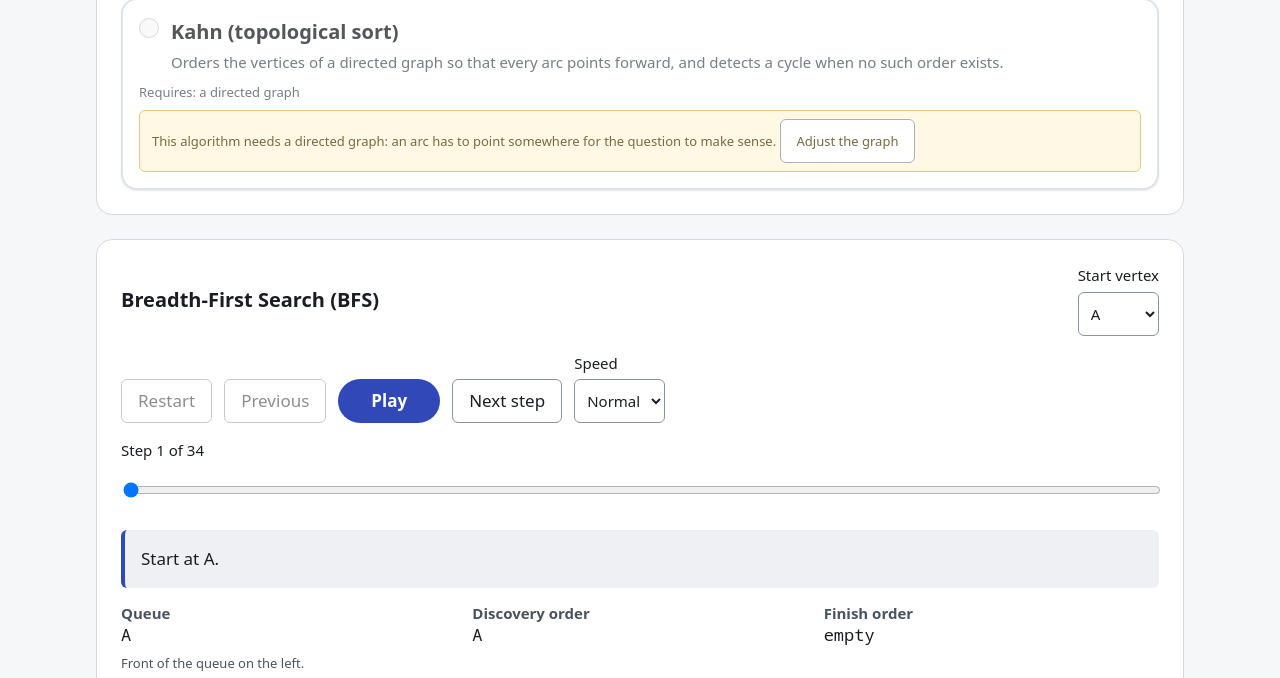
Test: App shell › switches language without resetting the run
The image size is (1280, 678).
(page scrolled)
Click the button "Next step": (507, 401) [452,379,562,423]
(page scrolled)
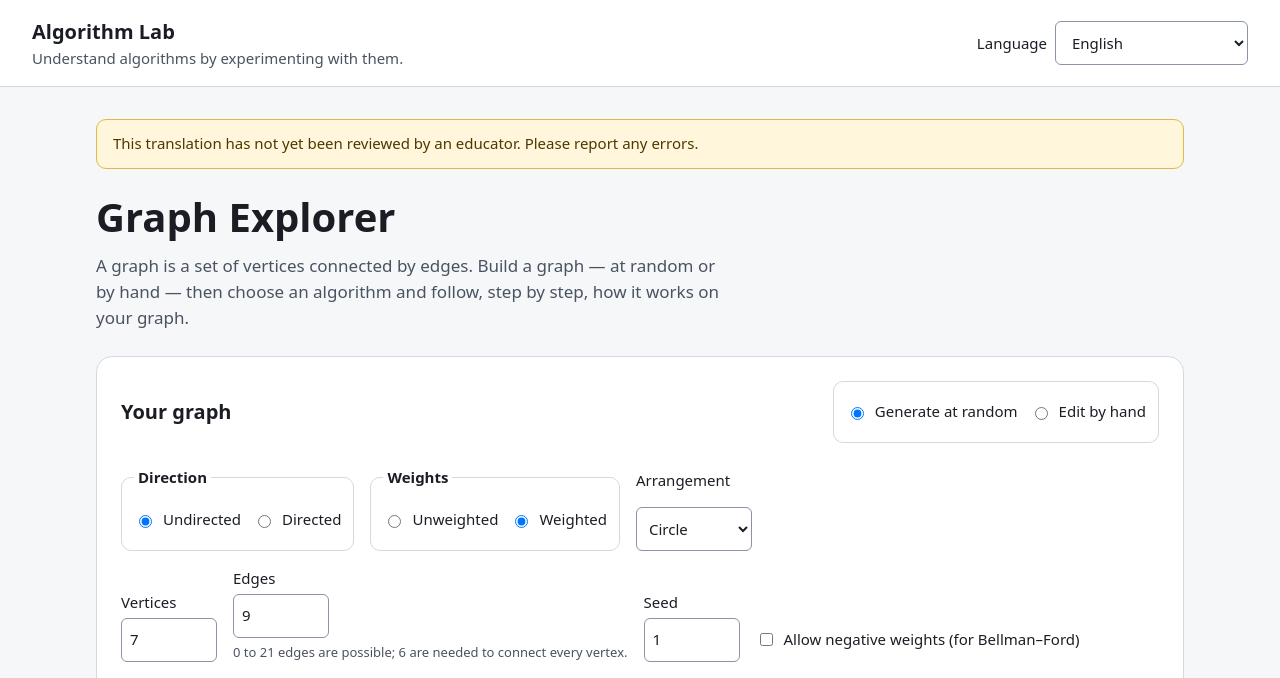
Select "Deutsch" in the dropdown labelled "Language": (1152, 43) [1055,21,1248,65]
(page scrolled)
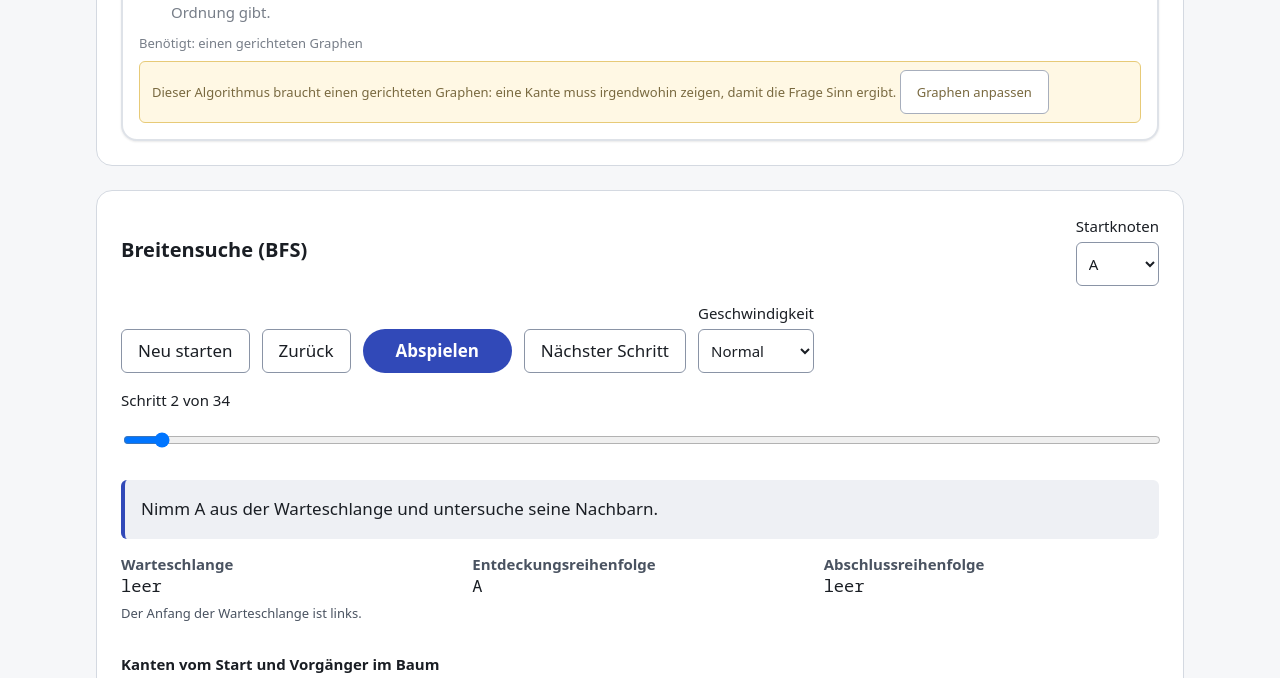
Expected: the text "Schritt 2 von 34" is shown, [121,390,230,410]
